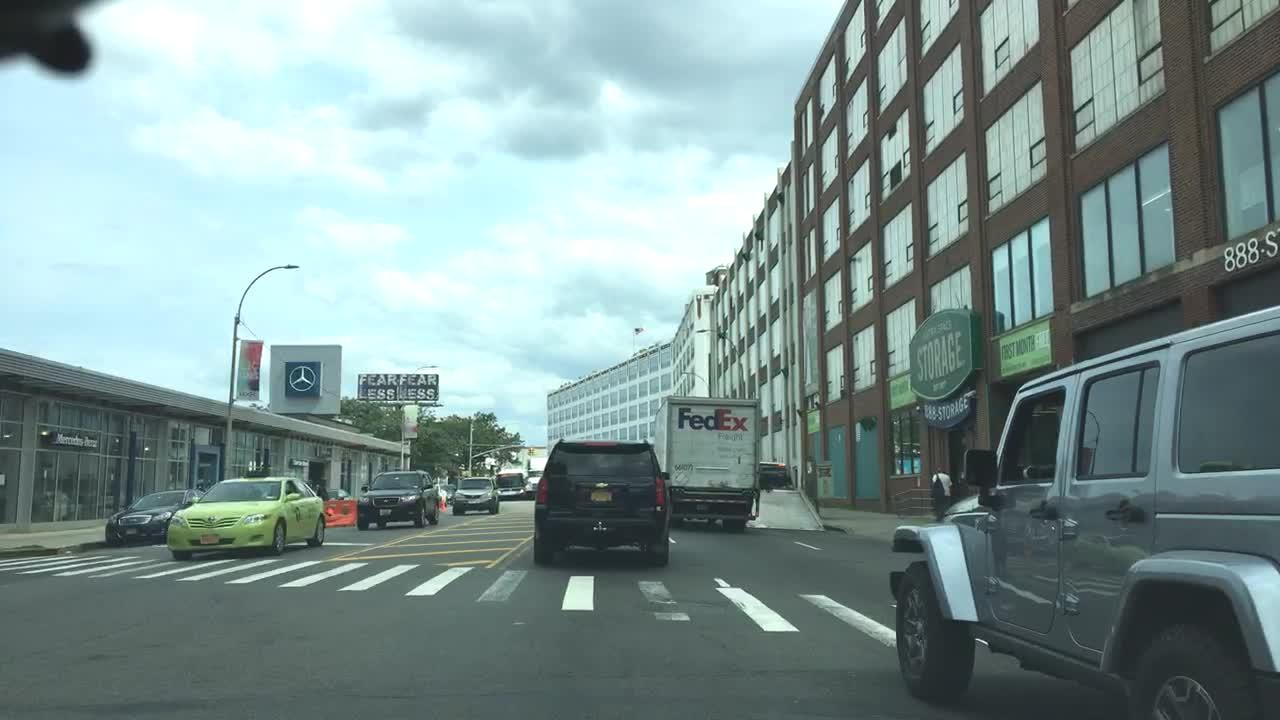chevrolet: (592, 479, 612, 491)
